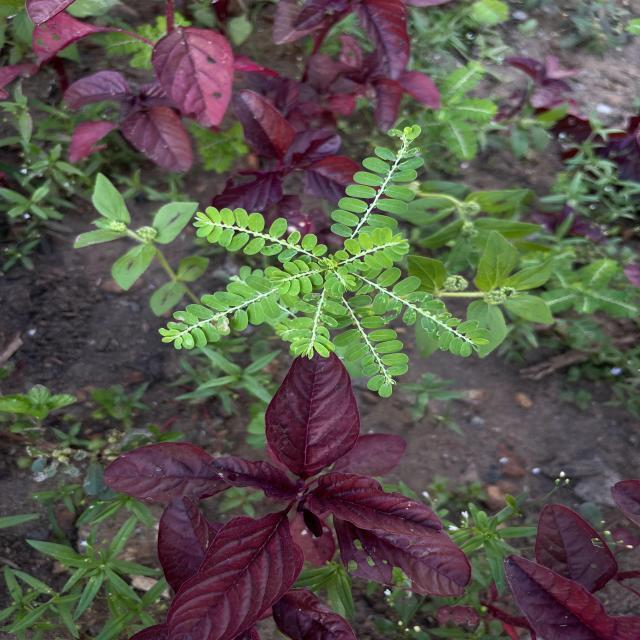Phyllanthus niruri: (366, 266, 494, 358), (328, 122, 425, 238), (158, 268, 276, 349), (190, 203, 328, 264), (336, 296, 414, 397), (284, 289, 345, 362), (334, 224, 411, 274)
